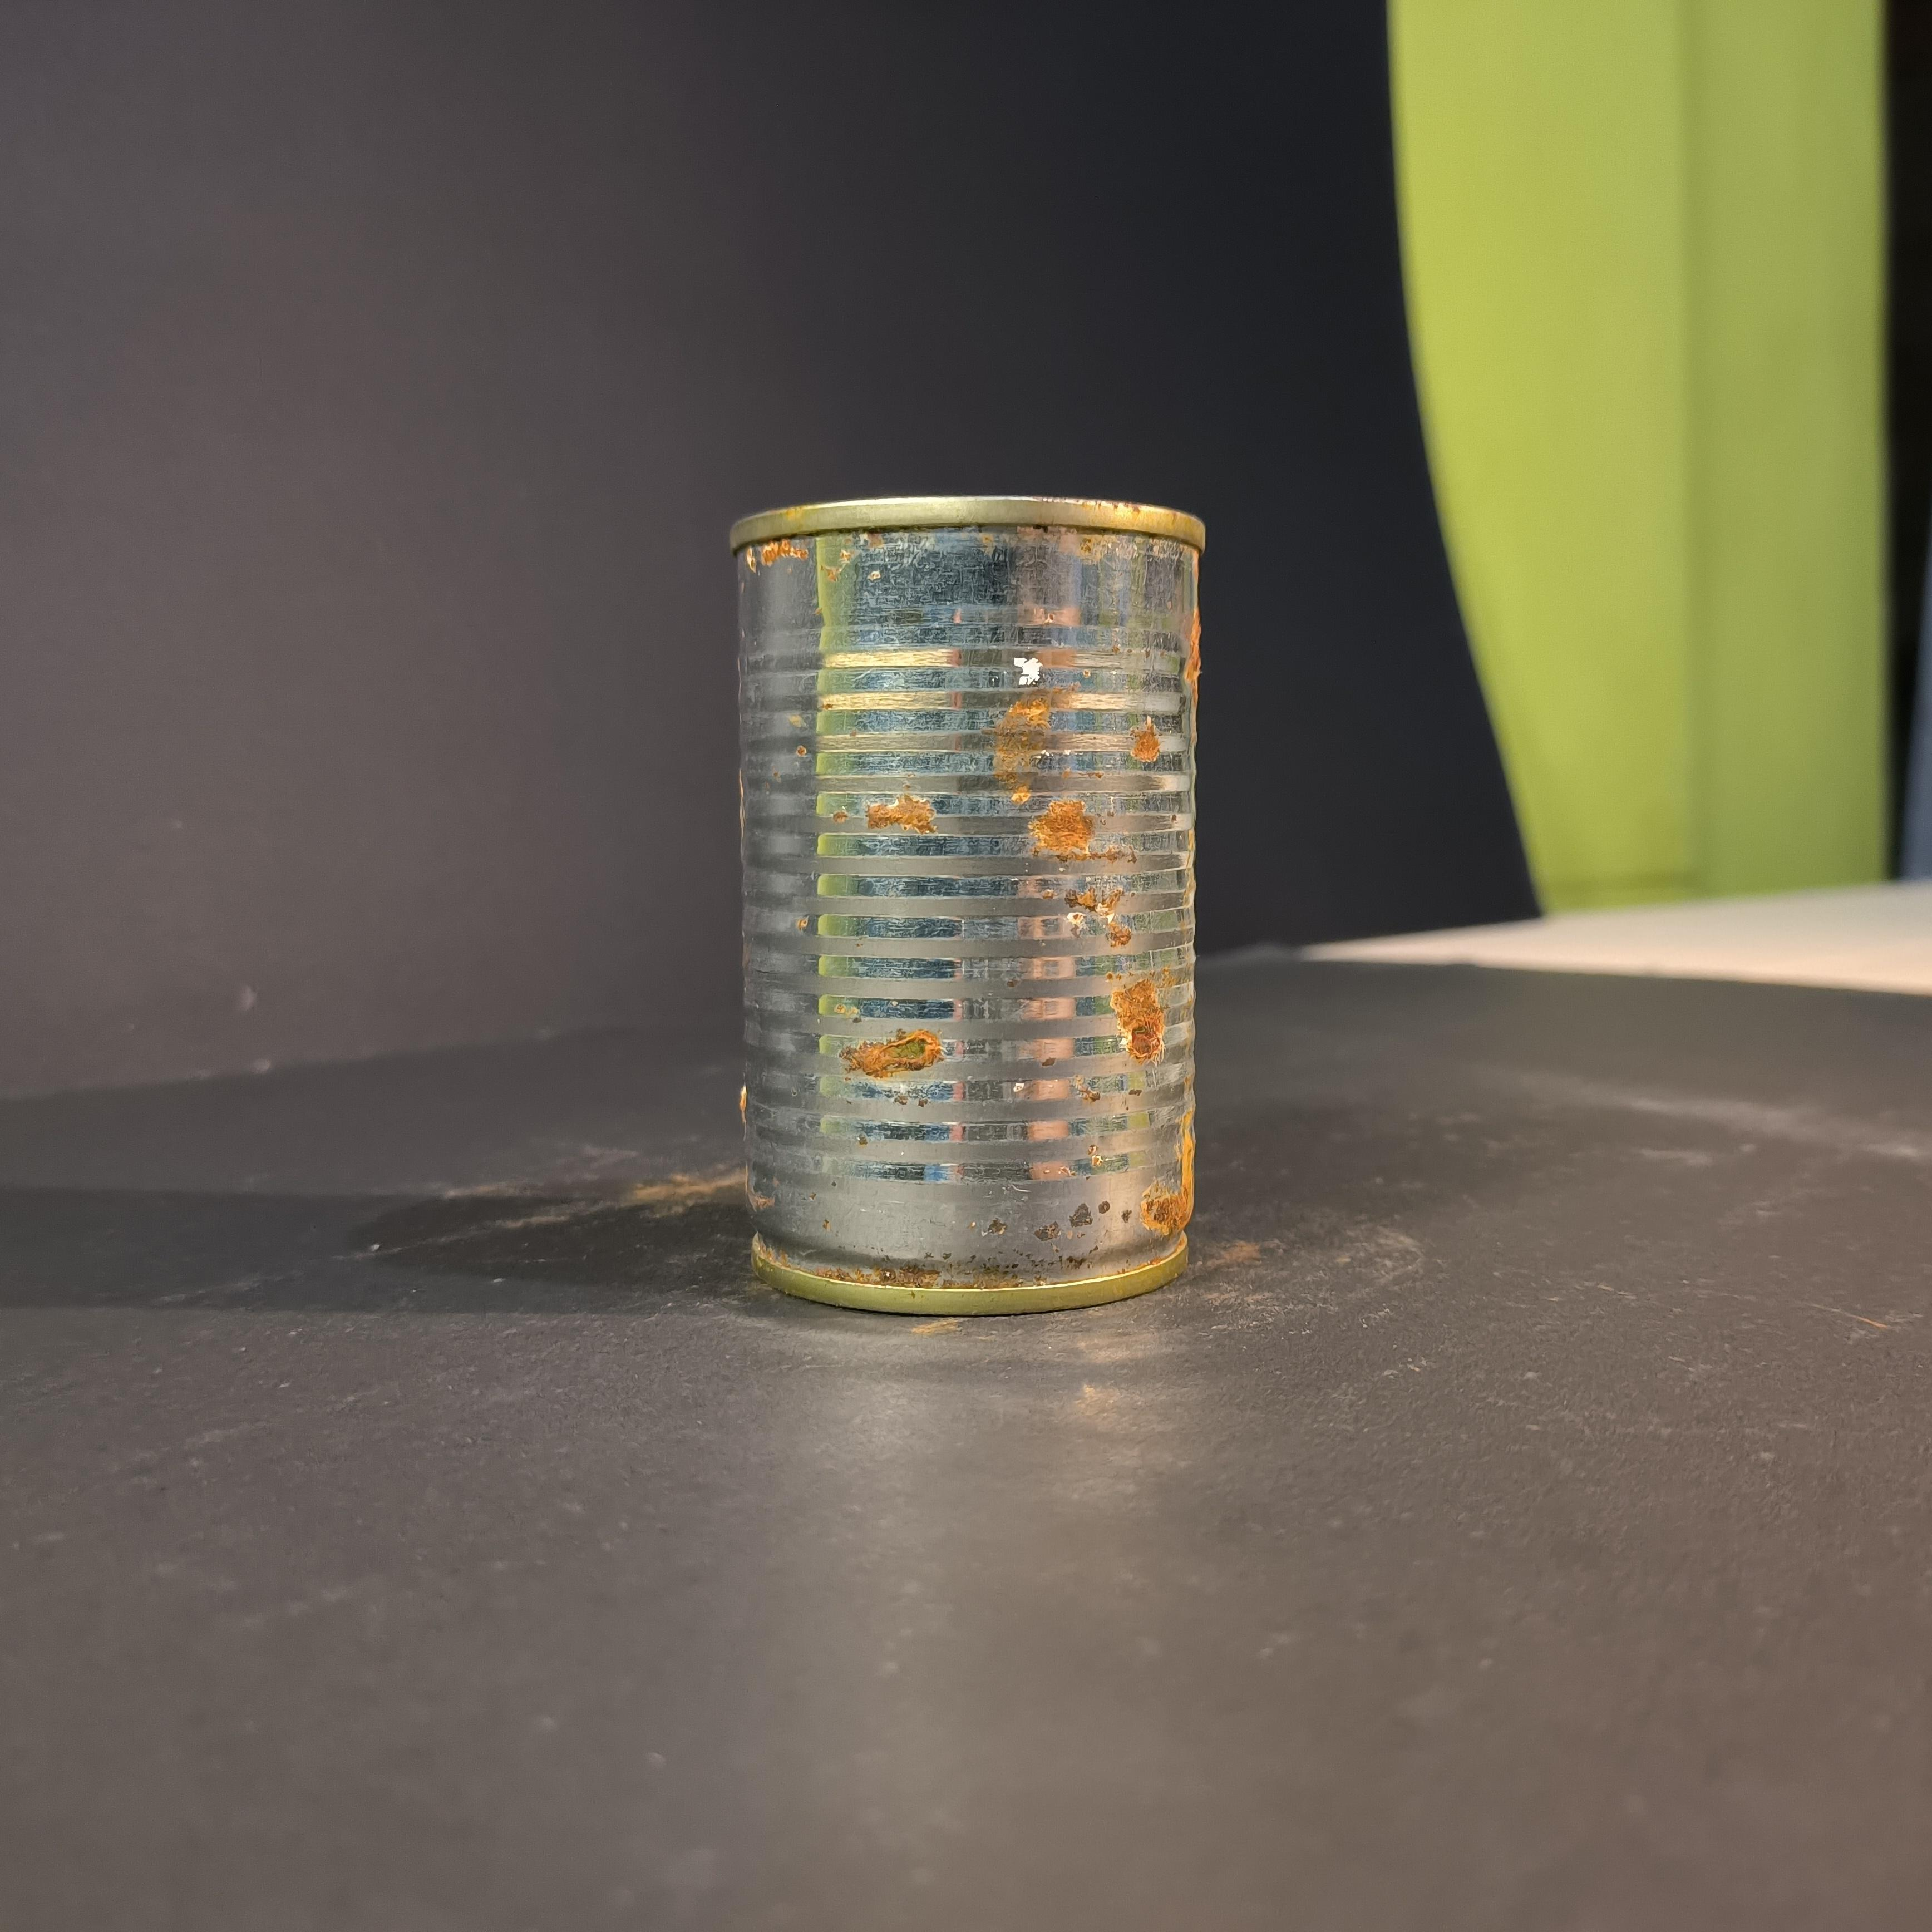Rusted: (715, 462, 1228, 1318)
